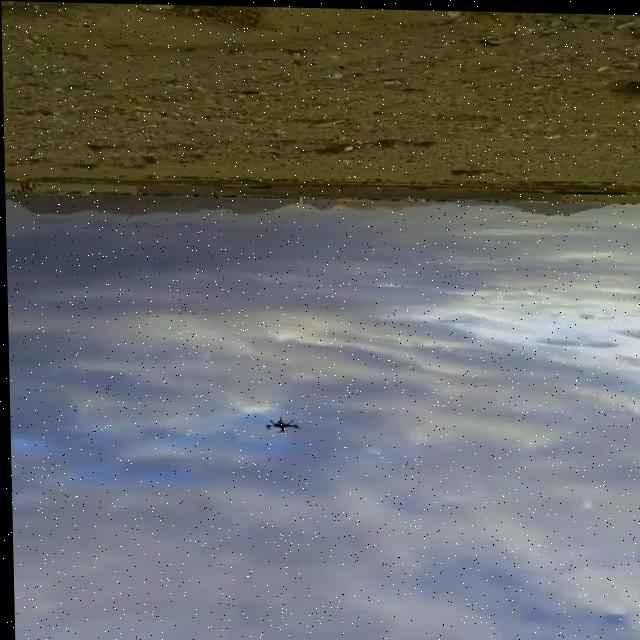drone: (252, 410, 301, 435)
